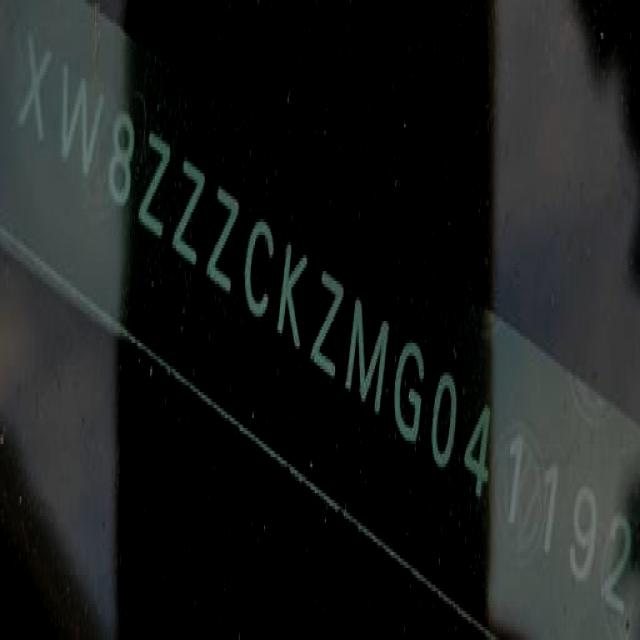0: (422, 352, 470, 479)
1: (494, 405, 533, 538), (531, 443, 565, 571)
2: (599, 503, 637, 625)
4: (459, 379, 502, 512)
8: (101, 91, 143, 227)
9: (563, 464, 606, 599)
C: (237, 203, 282, 334)
K: (271, 226, 315, 363)
M: (342, 282, 396, 431), (388, 319, 432, 460)
W: (47, 44, 114, 202)
X: (12, 13, 59, 164)
Z: (201, 172, 248, 307), (133, 115, 178, 252), (306, 260, 350, 395), (167, 145, 210, 282)
